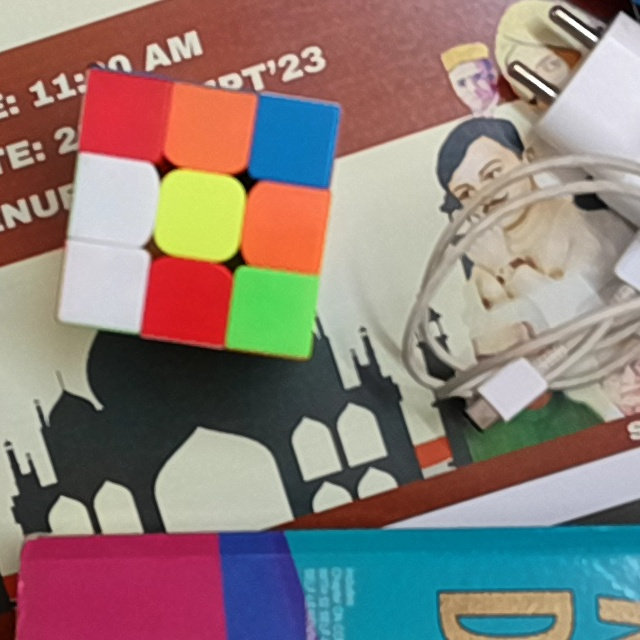tile: (67, 253, 137, 322), (238, 275, 305, 346), (81, 166, 147, 235), (253, 193, 319, 261), (263, 108, 328, 177), (155, 270, 222, 336), (175, 98, 244, 161), (89, 85, 159, 147), (168, 184, 234, 248)
